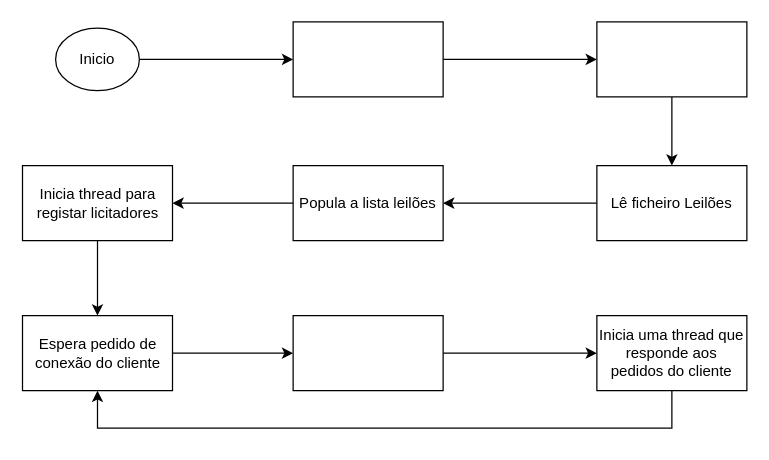
Some shapes in this 769 by 460 pixel diagram are drawn without their labels. The shapes that lost their labels are listed below. From the top down, each one's box as (x1, y1, x2, y2) in pixels, then its label:
(292, 21, 443, 97): Lê ficheiro Licitadores
(596, 21, 747, 97): Popula a lista licitadores
(292, 314, 443, 391): Recebe pedido de conexão do cliente
